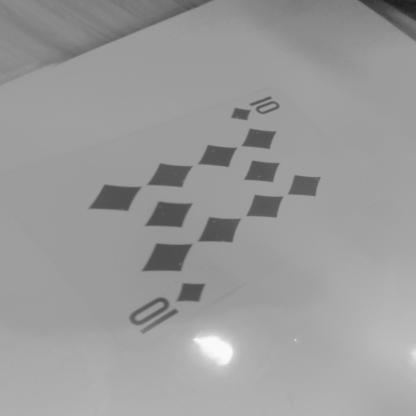10D: (114, 274, 212, 340), (222, 90, 302, 132)
